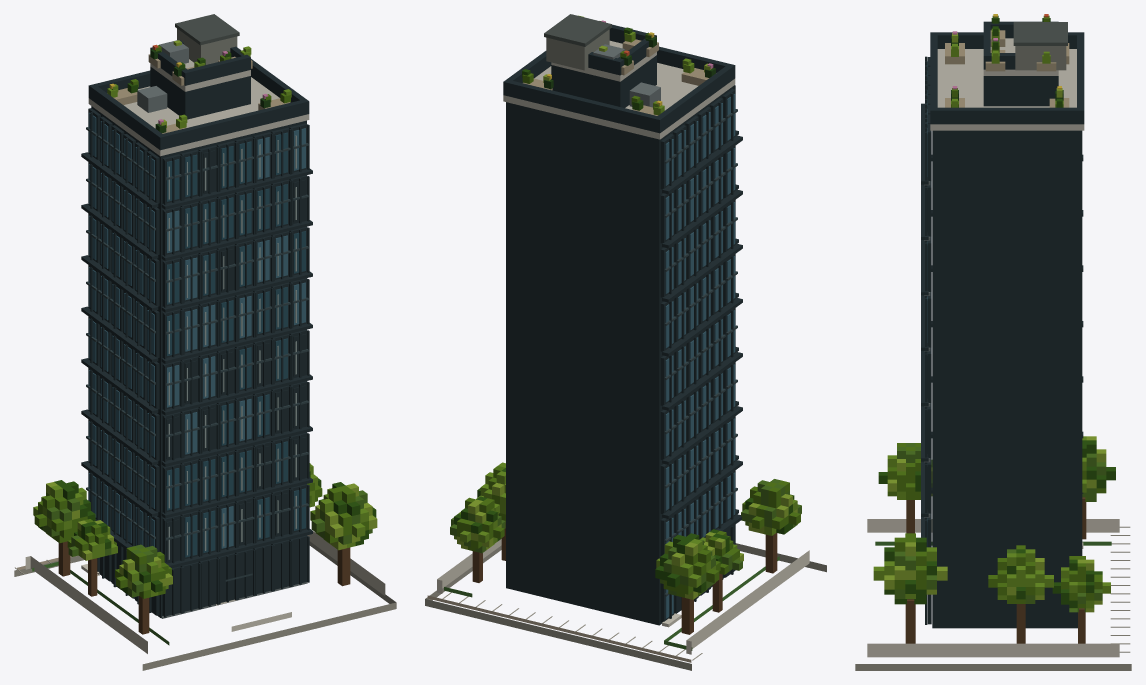
Rendered from SM_StreetFrontage_023.fbx.
The picture shows the model from 3 angles, left to right: view 1: azimuth 30°, elevation 25°; view 2: azimuth 150°, elevation 25°; view 3: azimuth 270°, elevation 25°; orthographic projection. The views are drawn at different scales.
Visible parts, largest first — view 1: SM_StreetFrontage_023; view 2: SM_StreetFrontage_023; view 3: SM_StreetFrontage_023.
Boxes of the visible parts, box(x1,y1,x2,y2) form: SM_StreetFrontage_023: box(14, 14, 396, 670); SM_StreetFrontage_023: box(425, 14, 826, 670); SM_StreetFrontage_023: box(855, 14, 1131, 670).
Size of the model in its own units: 14 by 12.08 by 28.24.
